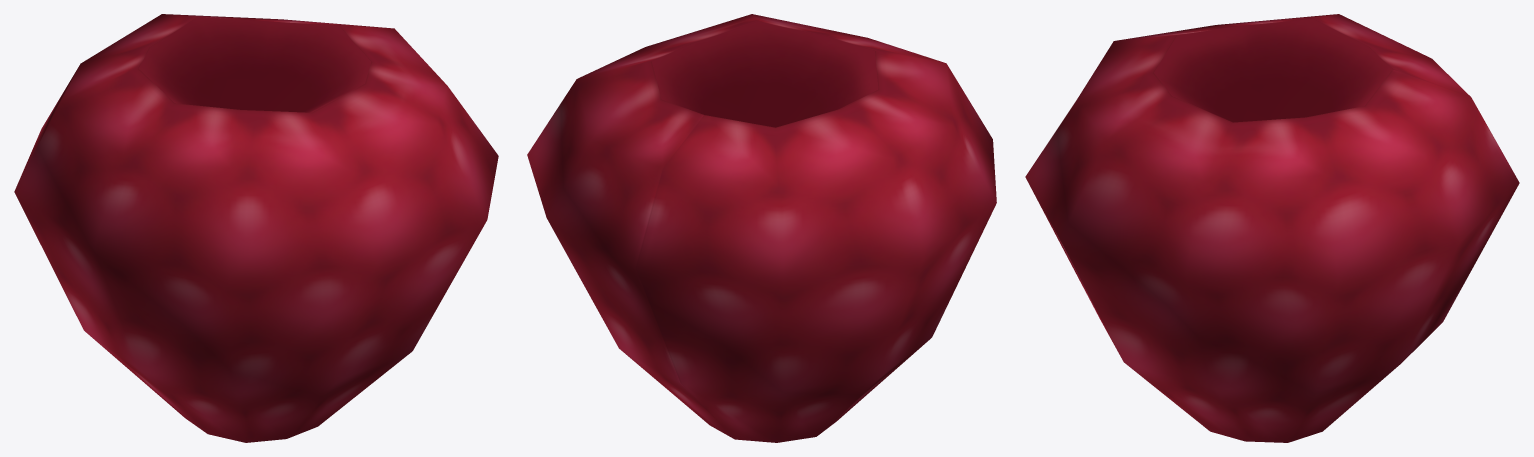
The model's file is Raspberry_Red.fbx.
3 renders of one model, left to right at view 1: azimuth 30°, elevation 25°; view 2: azimuth 150°, elevation 25°; view 3: azimuth 270°, elevation 25°, orthographic.
Parts seen in each view (by area): view 1: Raspberry_Red; view 2: Raspberry_Red; view 3: Raspberry_Red.
Boxes of the visible parts, left/top/right/bottom form: Raspberry_Red: left=14, top=14, right=498, bottom=442; Raspberry_Red: left=527, top=14, right=996, bottom=442; Raspberry_Red: left=1025, top=14, right=1519, bottom=442.
Size of the model in its own units: 13.39 by 11.62 by 13.98.
